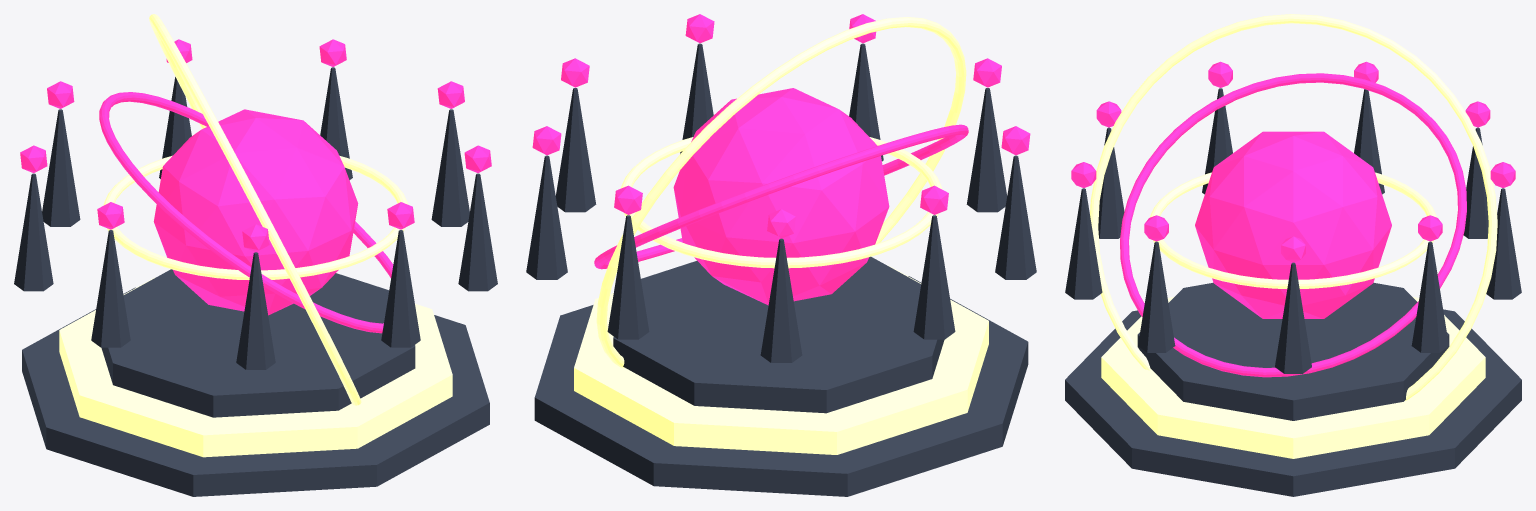
File: gpu-blender-v16.glb
3 renders of one model, left to right at view 1: azimuth 30°, elevation 25°; view 2: azimuth 150°, elevation 25°; view 3: azimuth 270°, elevation 25°, orthographic. The views are drawn at different scales.
Parts seen in each view (by area): view 1: Cylinder.002, SovereignCore_yara-sigma-forge, Cylinder, Cylinder.001, Torus.001, Torus.002, Torus, Cone.004, Cone.008, Cone.005, Cone.007, Cone.006 (+12 smaller); view 2: Cylinder.002, SovereignCore_yara-sigma-forge, Cylinder, Cylinder.001, Torus.002, Torus.001, Torus, Cone.002, Cone.004, Cone, Cone.001, Cone.005 (+12 smaller); view 3: SovereignCore_yara-sigma-forge, Cylinder.002, Cylinder, Cylinder.001, Torus.002, Torus.001, Torus, Cone.007, Cone.001, Cone.008, Cone, Cone.002 (+10 smaller).
Part boxes in pixels (<box>): Cylinder.002: <box>101,269,415,417</box>; SovereignCore_yara-sigma-forge: <box>153,109,358,315</box>; Cylinder: <box>22,287,489,496</box>; Cylinder.001: <box>59,277,452,457</box>; Torus.001: <box>99,92,393,333</box>; Torus.002: <box>149,14,361,405</box>; Torus: <box>103,155,408,279</box>; Cone.004: <box>14,173,53,291</box>; Cone.008: <box>458,173,497,291</box>; Cone.005: <box>91,230,130,347</box>; Cone.007: <box>381,230,420,347</box>; Cone.006: <box>236,252,275,369</box>; Cylinder.002: <box>613,256,944,413</box>; SovereignCore_yara-sigma-forge: <box>673,88,889,305</box>; Cylinder: <box>534,276,1028,496</box>; Cylinder.001: <box>574,265,988,454</box>; Torus.002: <box>596,17,966,367</box>; Torus.001: <box>594,124,968,269</box>; Torus: <box>621,137,942,268</box>; Cone.002: <box>607,215,649,339</box>; Cone.004: <box>913,215,955,339</box>; Cone: <box>555,88,596,212</box>; Cone.001: <box>526,155,567,279</box>; Cone.005: <box>995,155,1036,279</box>; SovereignCore_yara-sigma-forge: <box>1195,131,1391,318</box>; Cylinder.002: <box>1137,282,1449,420</box>; Cylinder: <box>1065,309,1521,496</box>; Cylinder.001: <box>1101,296,1485,458</box>; Torus.002: <box>1090,14,1497,400</box>; Torus.001: <box>1120,73,1466,377</box>; Torus: <box>1150,172,1436,288</box>; Cone.007: <box>1065,188,1102,299</box>; Cone.001: <box>1411,241,1448,352</box>; Cone.008: <box>1138,241,1175,352</box>; Cone: <box>1275,262,1311,373</box>; Cone.002: <box>1486,188,1521,299</box>.
Bounding box in the file's own units: 4.41 × 3.72 × 4.4.
